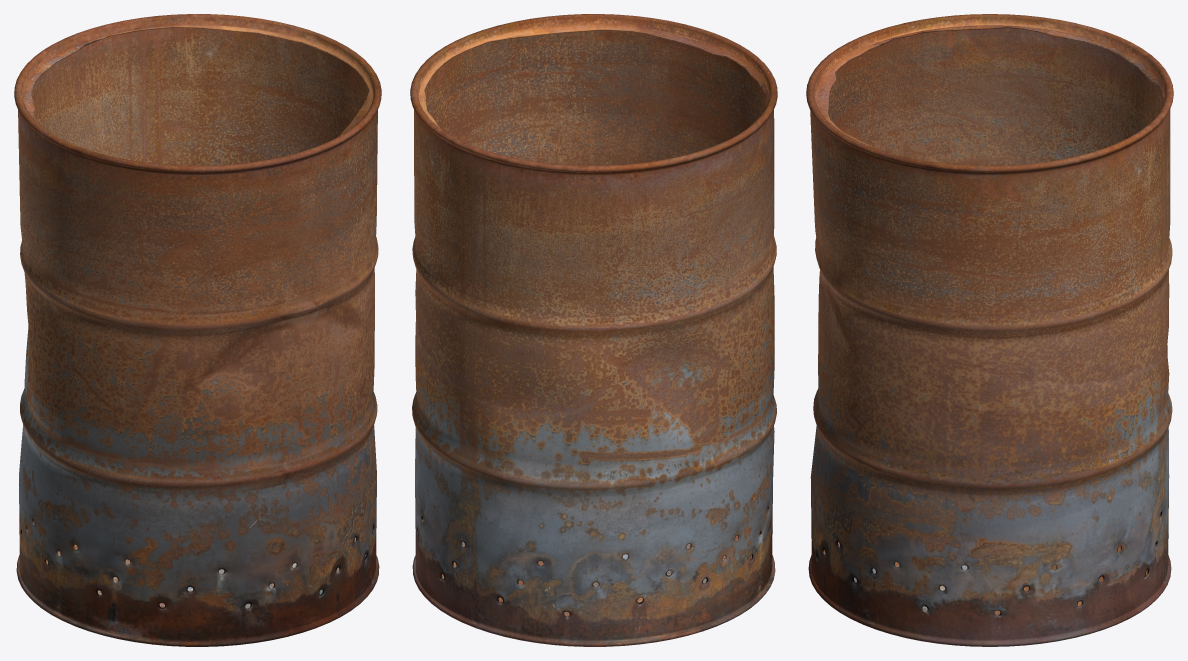
Rendered from barrel_stove_1k.gltf.
3 renders of one model, left to right at view 1: azimuth 30°, elevation 25°; view 2: azimuth 150°, elevation 25°; view 3: azimuth 270°, elevation 25°, orthographic.
Parts seen in each view (by area): view 1: barrel_stove; view 2: barrel_stove; view 3: barrel_stove.
Part boxes in pixels (<box>): barrel_stove: <box>14,14,381,646</box>; barrel_stove: <box>410,14,777,646</box>; barrel_stove: <box>806,14,1173,646</box>.
Bounding box in the file's own units: 0.5925 × 0.8556 × 0.5925.
1 material, 1 textured.
